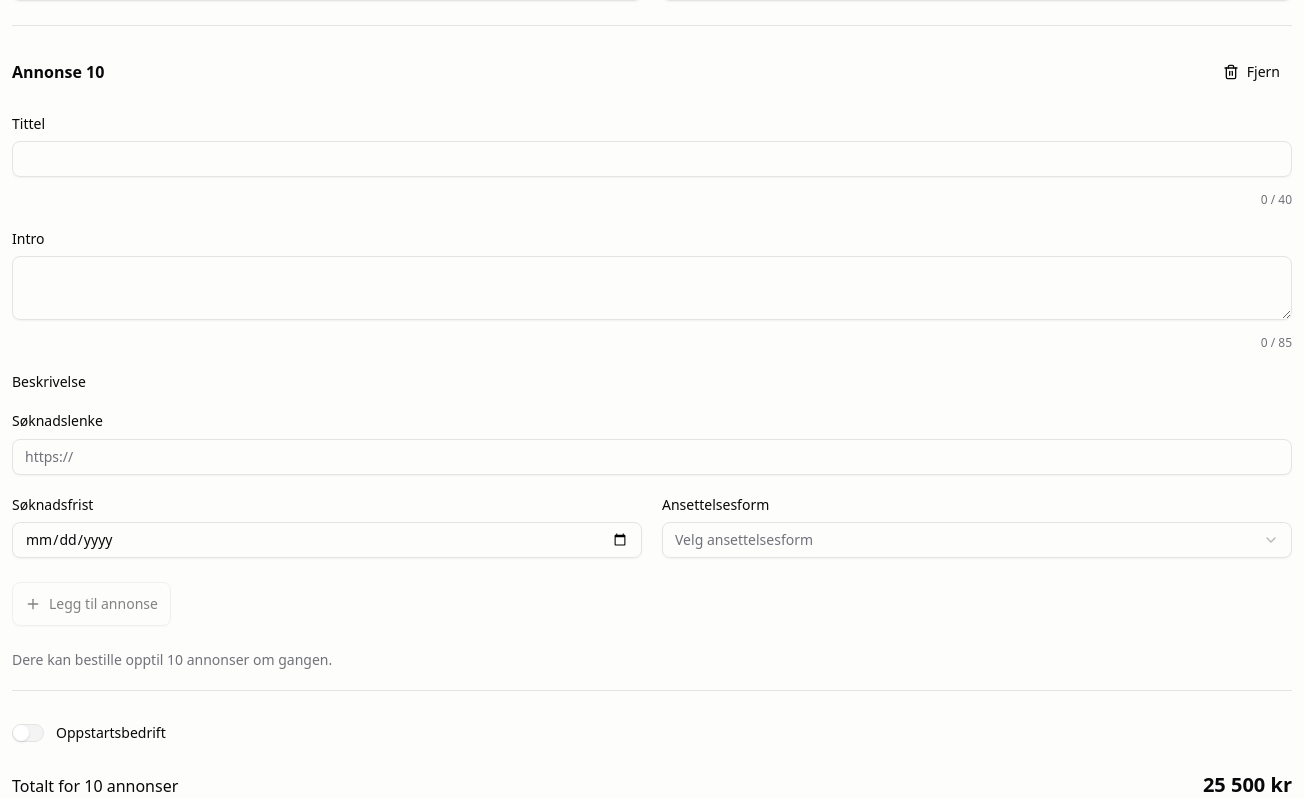
Test: recognizes restored multiple listings, caps additions, and updates startup pricing
(page scrolled)
Check: the button "Legg til annonse" is disabled, box [12,582,171,626]
Click the switch at x=28, y=733, box [12,724,44,742]
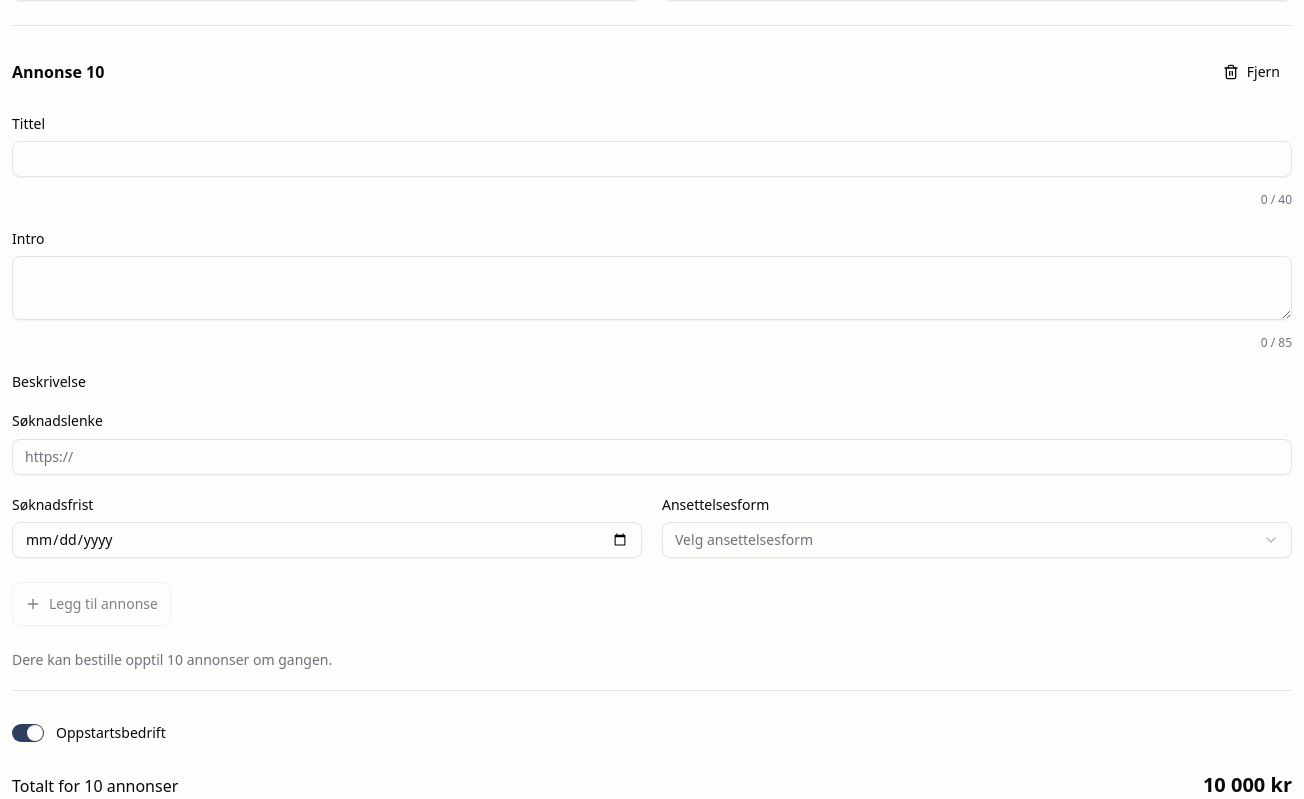
Click the button "Fjern" at x=1251, y=72, box [1211,50,1292,94]
(page scrolled)
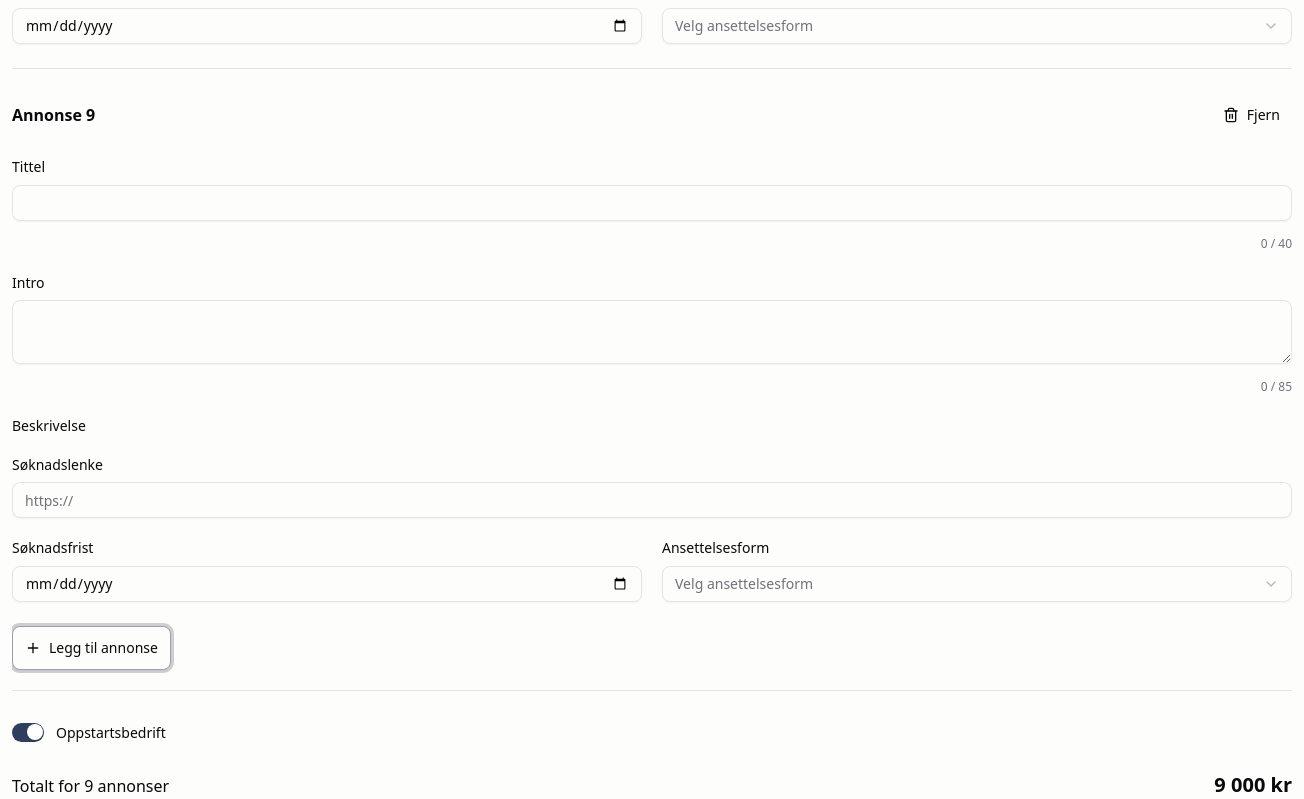
Check: the button "Legg til annonse" is enabled, box [12,626,171,670]
